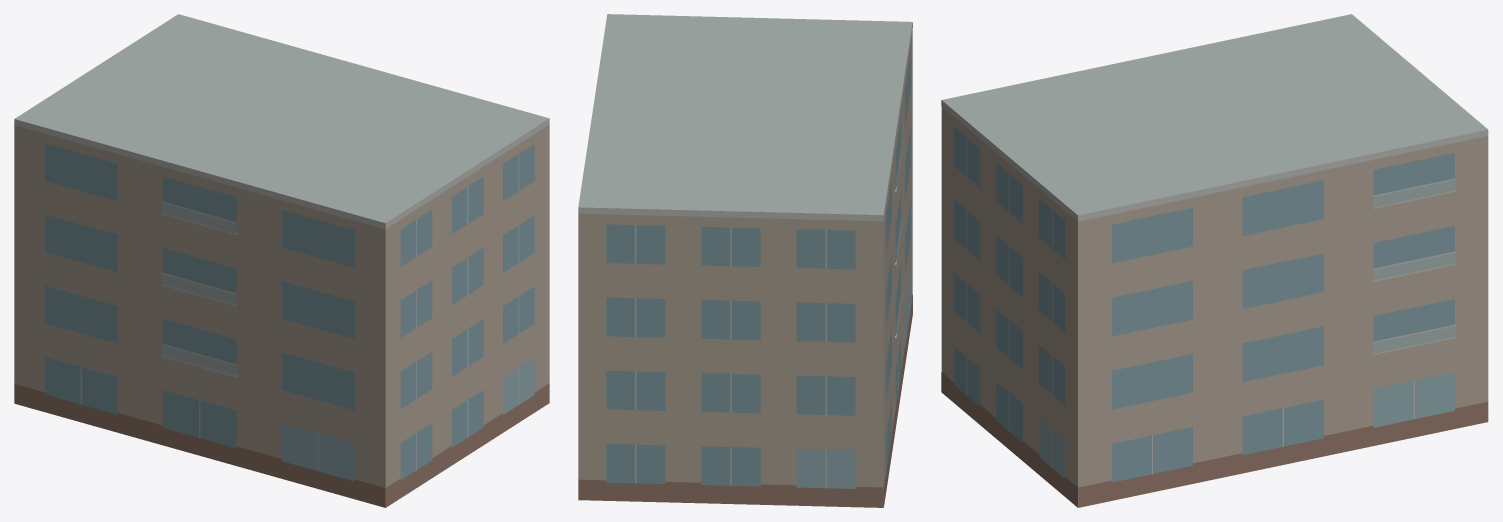
Rendered from survey-upis-32778797.glb.
The picture shows the model from 3 angles, left to right: view 1: azimuth 30°, elevation 25°; view 2: azimuth 150°, elevation 25°; view 3: azimuth 270°, elevation 25°; orthographic projection. The views are drawn at different scales.
Visible parts, largest first — view 1: survey-upis-32778797.tmp; view 2: survey-upis-32778797.tmp; view 3: survey-upis-32778797.tmp.
Boxes of the visible parts, x1,y1,x2,y2 form: survey-upis-32778797.tmp: (14, 14, 549, 507); survey-upis-32778797.tmp: (578, 14, 912, 507); survey-upis-32778797.tmp: (941, 14, 1488, 507).
Size of the model in its own units: 17.01 by 11.5 by 19.5.
